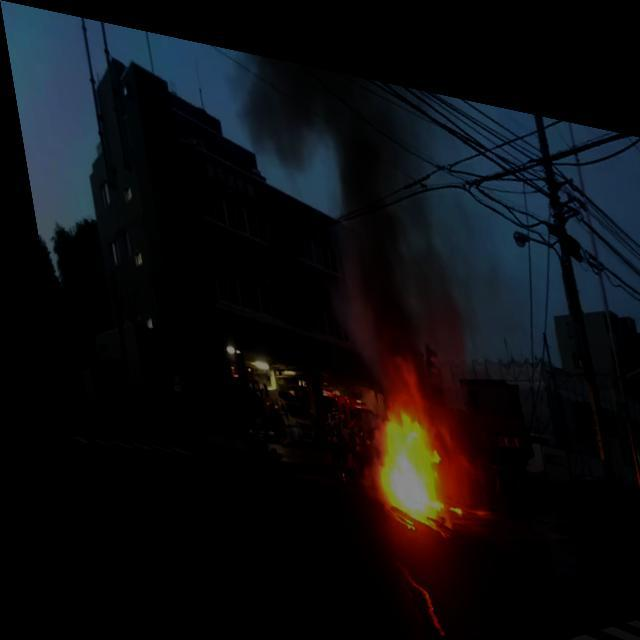Fire: (359, 402, 444, 528)
